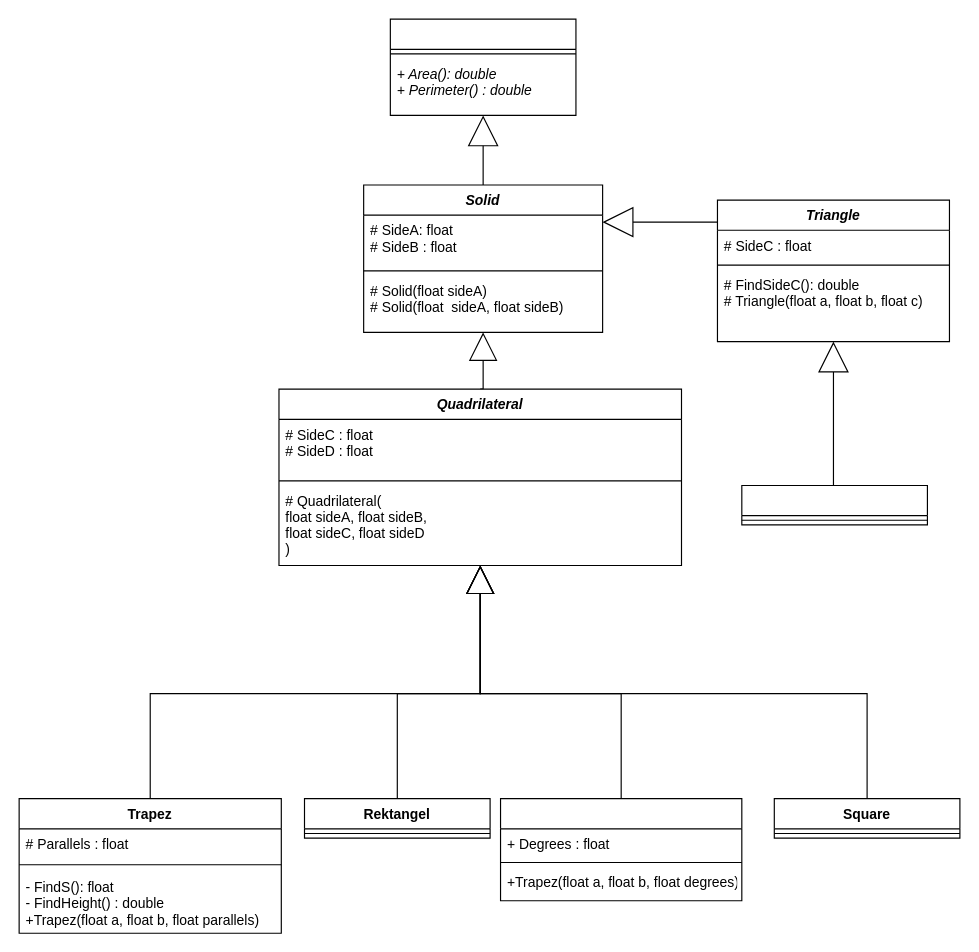
The diagram is 979 pixels wide and 952 high, and some of its shapes have lost their labels. Here are the shapes that lost their labels. From the top down, the box of each, then its label:
(389, 18, 576, 115): Shape
(741, 484, 927, 525): Right_Triangle
(499, 798, 742, 901): Paralellogram
